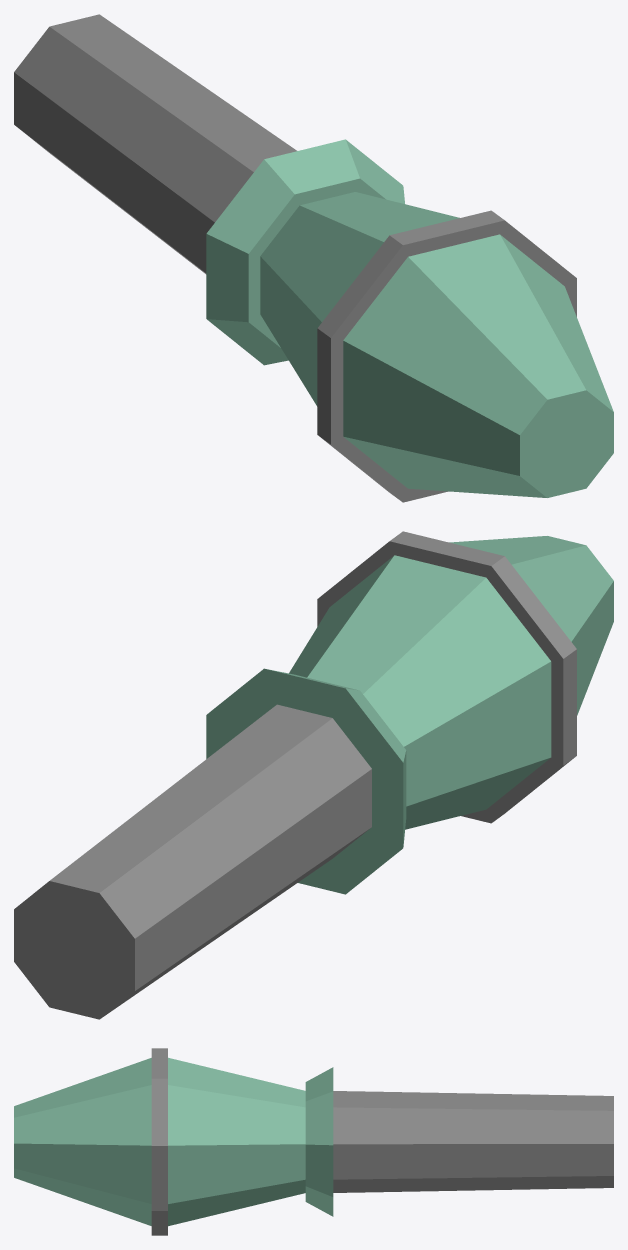
File: weapon-pack--ammo-rocket.glb
3 views of the same model, one above another, from view 1: azimuth 30°, elevation 25°; view 2: azimuth 150°, elevation 25°; view 3: azimuth 270°, elevation 25° (orthographic). The views are drawn at different scales.
Parts seen in each view (by area): view 1: ammo_rocket; view 2: ammo_rocket; view 3: ammo_rocket.
Boxes of the visible parts, <box> form: ammo_rocket: <box>14,14,613,502</box>; ammo_rocket: <box>14,531,613,1019</box>; ammo_rocket: <box>14,1048,613,1235</box>.
Bounding box in the file's own units: 0.1203 × 0.1203 × 0.4173.
